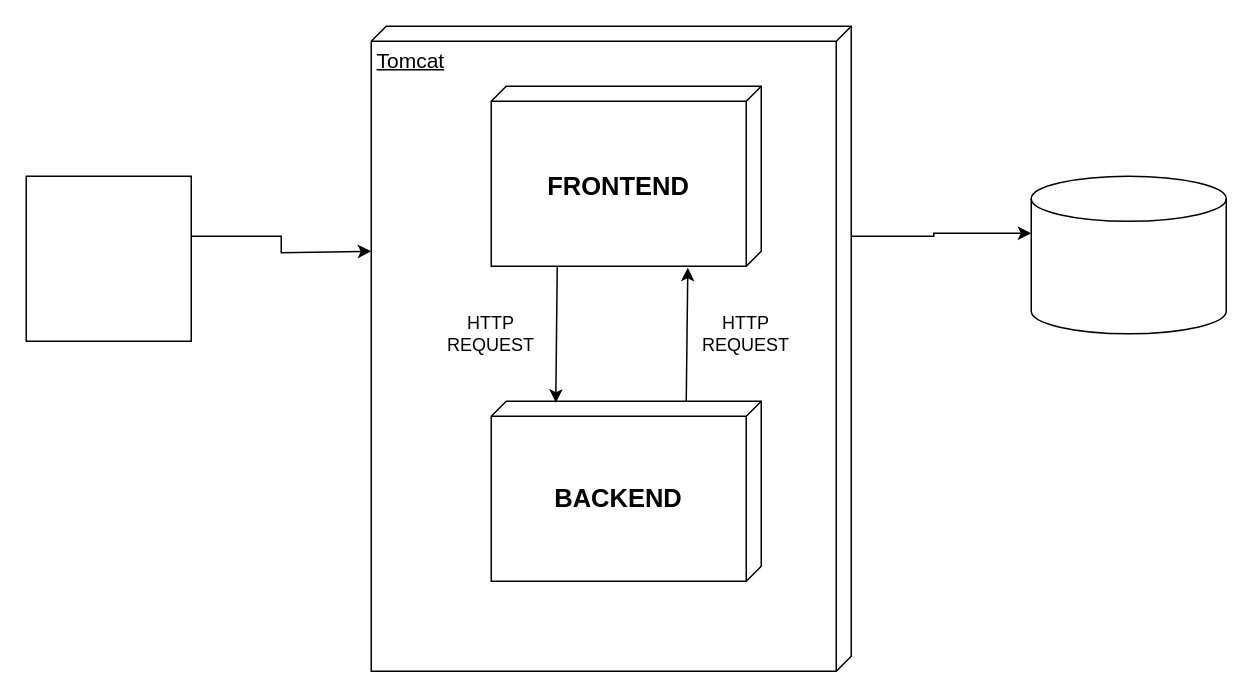
Image size: 1253x698. Some labels were removed from this diagram. The shapes that lost their labels are listed below. From the top down, each one's centre as x and y in pixels, then its label:
the point at 108,258: User
the point at 1128,254: MySQL DATABASE
